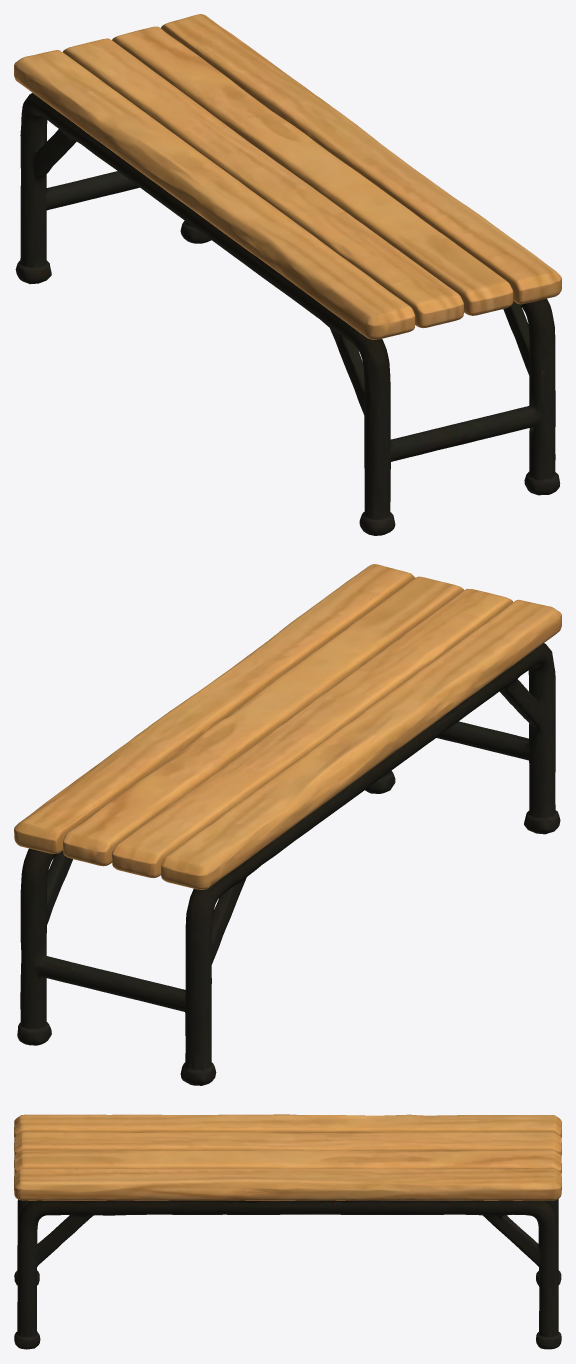
The model's file is 11-banco.glb.
The picture shows the model from 3 angles, top to bottom: view 1: azimuth 30°, elevation 25°; view 2: azimuth 150°, elevation 25°; view 3: azimuth 270°, elevation 25°; orthographic projection. The views are drawn at different scales.
Parts seen in each view (by area): view 1: tripo_node_47d4a360-16c0-4a21-83fd-b7f95fc77a50; view 2: tripo_node_47d4a360-16c0-4a21-83fd-b7f95fc77a50; view 3: tripo_node_47d4a360-16c0-4a21-83fd-b7f95fc77a50.
Boxes of the visible parts, x1=… form: tripo_node_47d4a360-16c0-4a21-83fd-b7f95fc77a50: x1=14, y1=14, x2=561, y2=535; tripo_node_47d4a360-16c0-4a21-83fd-b7f95fc77a50: x1=14, y1=564, x2=561, y2=1085; tripo_node_47d4a360-16c0-4a21-83fd-b7f95fc77a50: x1=14, y1=1114, x2=561, y2=1349.
Bounding box in the file's own units: 0.3125 × 0.342 × 1.
Materials: 1 (1 with a texture image).
